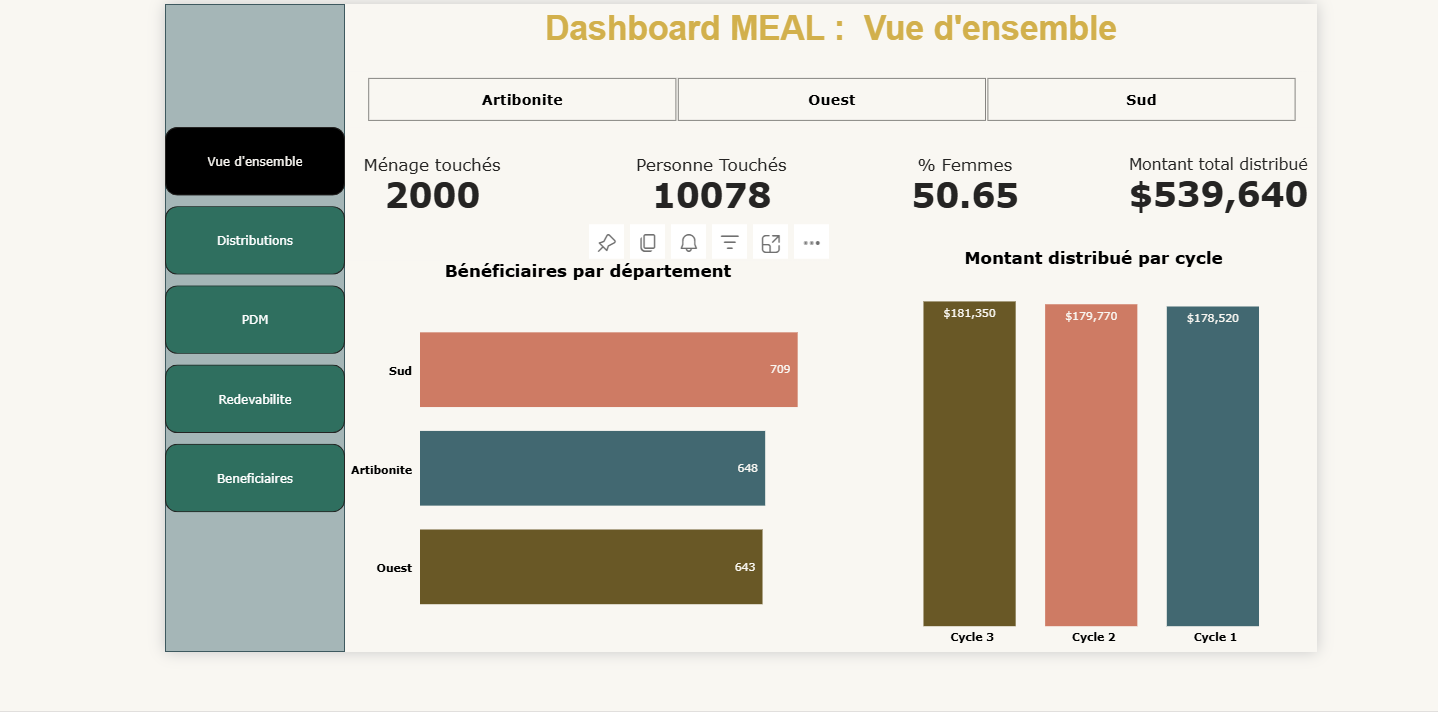

This screenshot's page, from the dashboard's own definition file:
{"tool":"powerbi","page":{"name":"Vue d'ensemble","canvas":[1280,720],"ordinal":0},"visuals":[{"type":"card","title":"Ménage touchés ","fields":{"Values":["_Mesures.Nb_menages_touchés"]},"box":[0,78.3,193.3,124.6],"z":0},{"type":"card","title":"Personne Touchés","fields":{"Values":["_Mesures.Tot_personnes_touchées"]},"box":[207.4,78.3,220.5,124.6],"z":1000},{"type":"card","title":"% Femmes","fields":{"Values":["_Mesures.Pct_Femmes"]},"box":[441.9,78.3,137.4,124.6],"z":2000},{"type":"card","title":"Montant total distribué","fields":{"Values":["_Mesures.Montant_Total_Distribué"]},"box":[593.4,78.3,220.5,124.6],"z":3000},{"type":"card","title":"Taux resolution","fields":{"Values":["_Mesures.Taux_Resolution"]},"box":[827.9,78.3,158.2,124.6],"z":4000},{"type":"card","title":"Score Vulnérabilité moyen","fields":{"Values":["_Mesures.Score_Vulnerabilite_Moyen"]},"box":[1000.1,78.3,279.6,124.6],"z":5000},{"type":"barChart","title":"Bénéficiaires par département","fields":{"Category":["dim_beneficiaries.departement"],"Y":["_Mesures.Nb_menages_touchés"]},"box":[10.1,270,465.1,434.9],"z":6000},{"type":"columnChart","title":"Montant distribué par cycle","fields":{"Category":["fact_distribution.cycle"],"Y":["_Mesures.Montant_Total_Distribué"]},"box":[544.8,269.5,581.6,450.5],"z":7000},{"type":"slicer","fields":{"Values":["dim_beneficiaries.departement"]},"box":[1140.7,202.9,139,517.6],"z":8000},{"type":"textbox","box":[0,0,1279.7,62.3],"z":9000}]}

Visuals, with their boxes on the page's 1280x720 design canvas (x1, y1, x2, y2). These are canvas units, not pixel positions in the 1438x712 screenshot, which may show the page scaled, cropped or inside an application window:
"Ménage touchés " card: bbox(0, 78, 193, 203)
"Personne Touchés" card: bbox(207, 78, 428, 203)
"% Femmes" card: bbox(442, 78, 579, 203)
"Montant total distribué" card: bbox(593, 78, 814, 203)
"Taux resolution" card: bbox(828, 78, 986, 203)
"Score Vulnérabilité moyen" card: bbox(1000, 78, 1280, 203)
"Bénéficiaires par département" barChart: bbox(10, 270, 475, 705)
"Montant distribué par cycle" columnChart: bbox(545, 270, 1126, 720)
slicer - dim_beneficiaries.departement: bbox(1141, 203, 1280, 720)
textbox: bbox(0, 0, 1280, 62)
